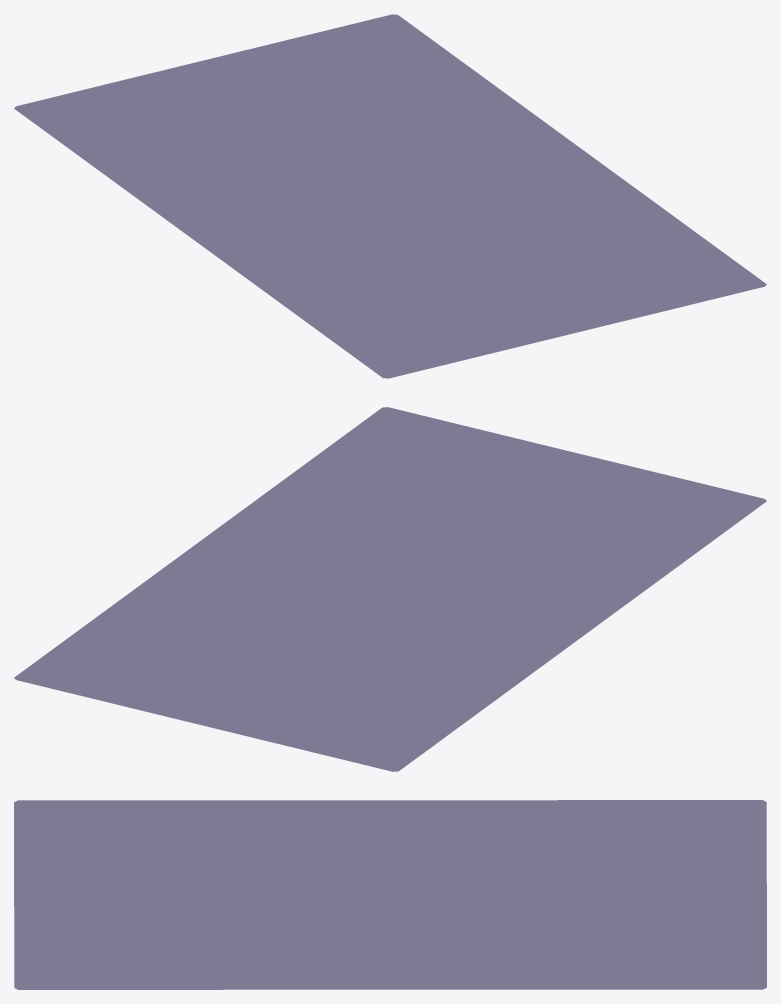
3 views of the same model, one above another, from view 1: azimuth 30°, elevation 25°; view 2: azimuth 150°, elevation 25°; view 3: azimuth 270°, elevation 25° (orthographic).
Parts seen in each view (by area): view 1: Joint_0_Object_0; view 2: Joint_0_Object_0; view 3: Joint_0_Object_0.
Boxes of the visible parts, bbox=[...] form: Joint_0_Object_0: bbox=[14, 14, 766, 378]; Joint_0_Object_0: bbox=[14, 407, 766, 771]; Joint_0_Object_0: bbox=[14, 800, 766, 989].
Bounding box in the file's own units: 1588 × 0 × 2662.
1 material, 1 textured.
